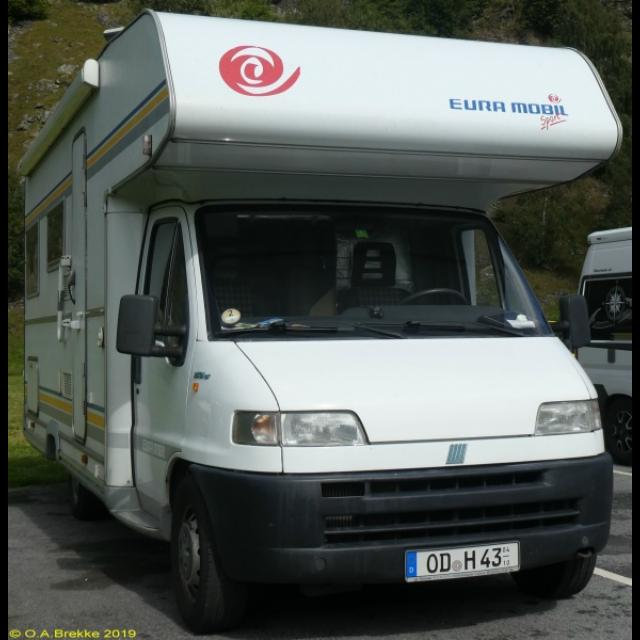d_license_plate: (404, 540, 518, 576)
